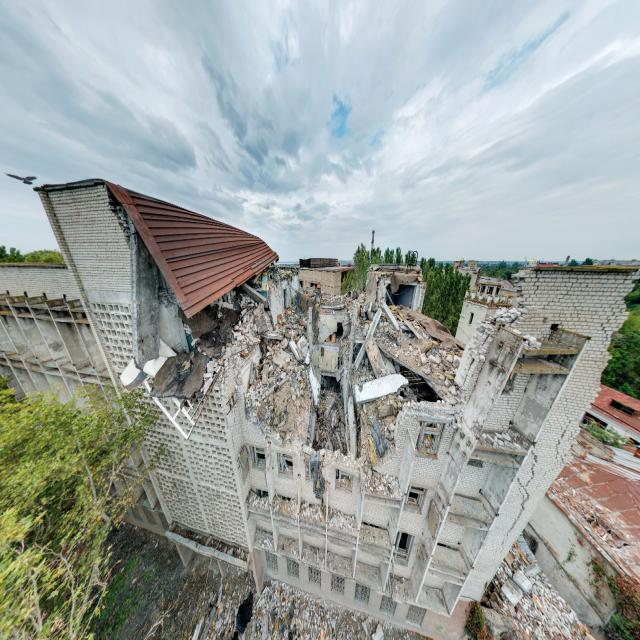broken_window: (416, 419, 444, 458), (393, 530, 414, 564), (405, 486, 425, 514), (276, 451, 293, 477)
building: (1, 176, 638, 637)
